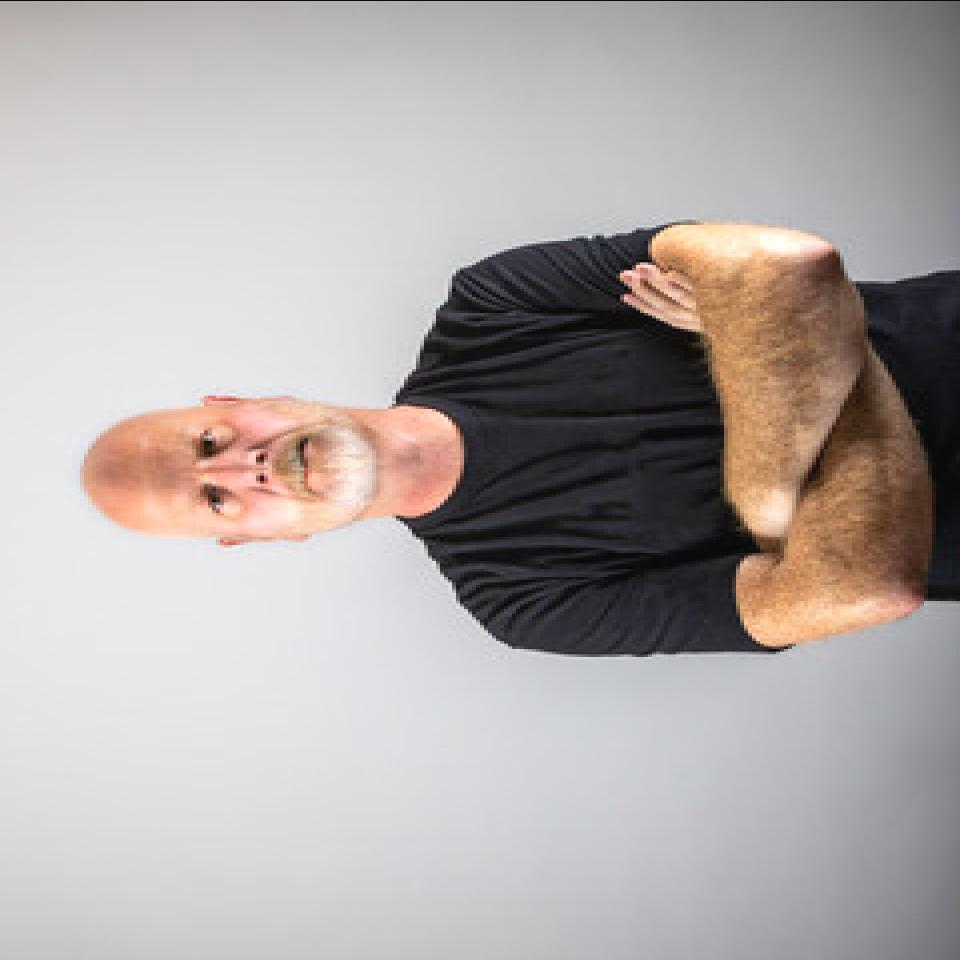Anger: (122, 411, 375, 533)
